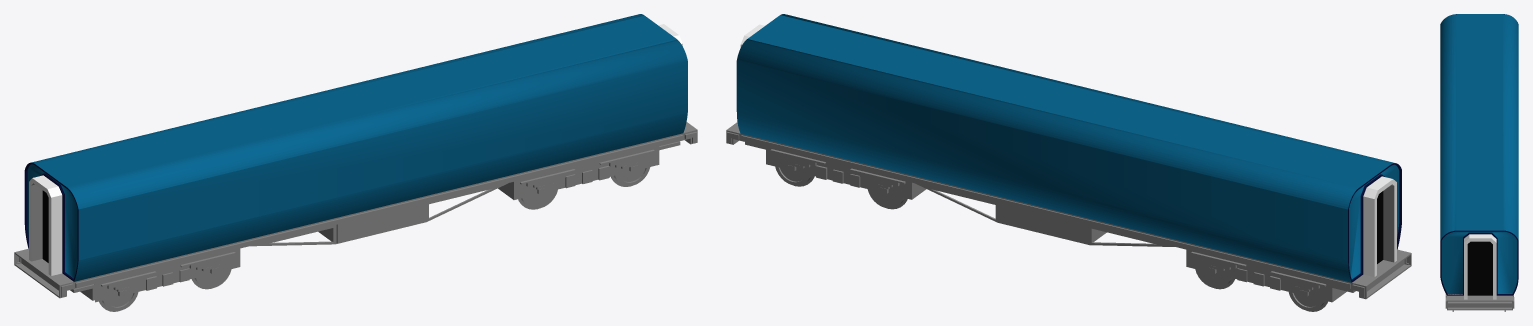
The model's file is Bogey (Blue).fbx.
3 renders of one model, left to right at view 1: azimuth 30°, elevation 25°; view 2: azimuth 150°, elevation 25°; view 3: azimuth 270°, elevation 25°, orthographic. The views are drawn at different scales.
Visible parts, largest first — view 1: Bogey; view 2: Bogey; view 3: Bogey.
Part boxes in pixels (x1=…): Bogey: x1=14, y1=14, x2=697, y2=311; Bogey: x1=726, y1=14, x2=1411, y2=311; Bogey: x1=1440, y1=14, x2=1518, y2=311.
Bounding box in the file's own units: 16240 × 3248 × 2366.
